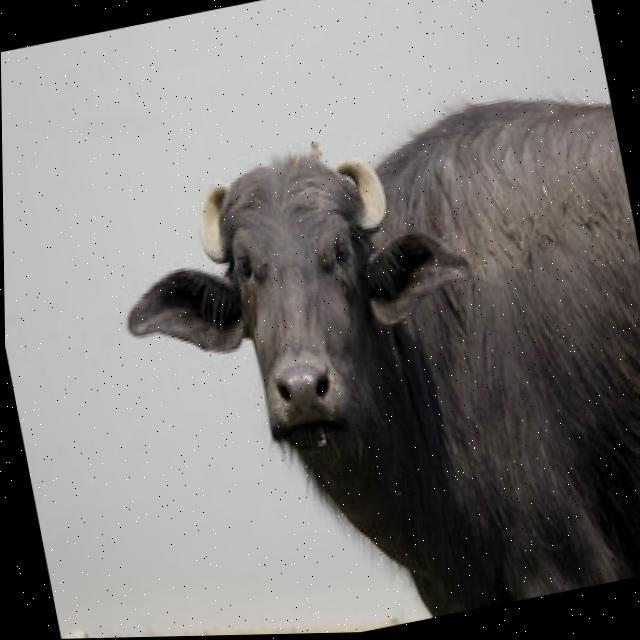Buffalo: (93, 68, 640, 638)
